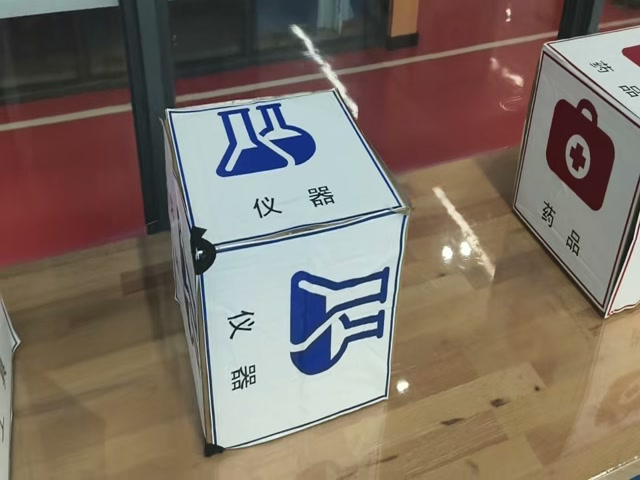Cube_ins: (166, 93, 412, 254)
Cube_medicine: (538, 23, 640, 134)
